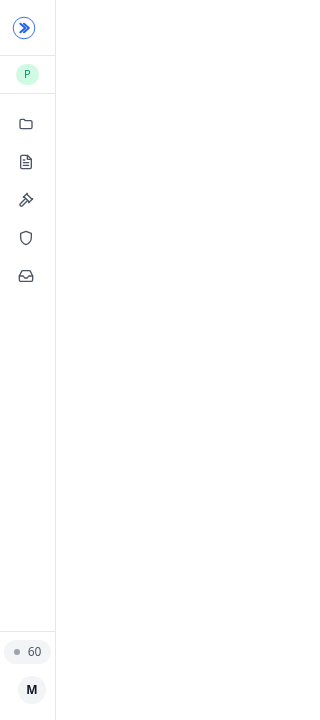
Test: ProductSidebar › adiciona itens contextuais em rotas /project/:id
Hover over the element with test id "app-sidebar".
mouse_move(28, 360)  # box [0,0,56,719]
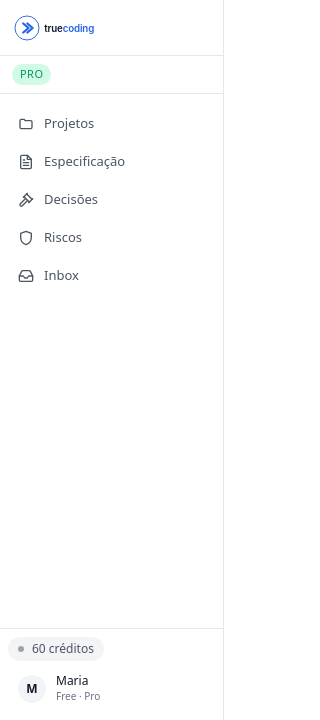
Result: the text "Especificação" is shown at [44,152,125,170]
Result: the text "Decisões" is shown at [44,190,98,208]
Result: the text "Riscos" is shown at [44,228,82,246]
